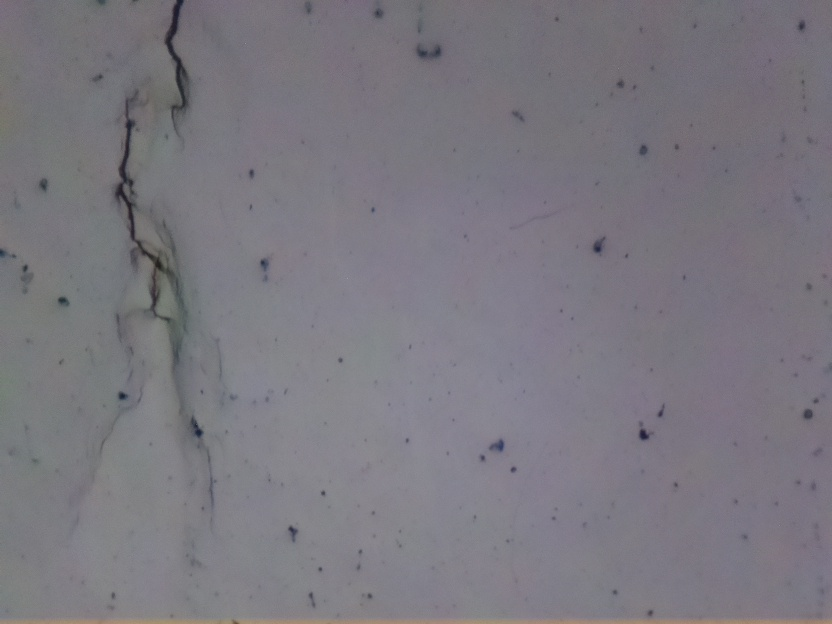crack: (113, 97, 190, 328), (163, 0, 194, 143)
